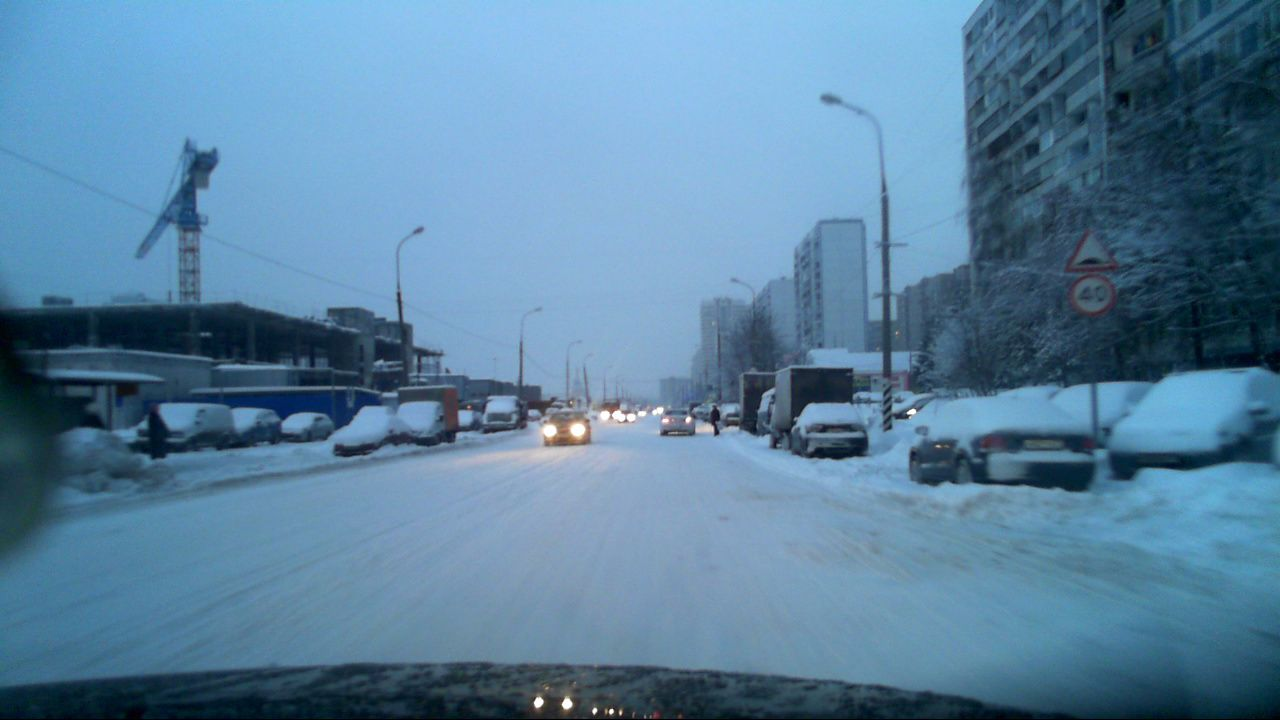speed_warning_40: (1071, 269, 1116, 313)
